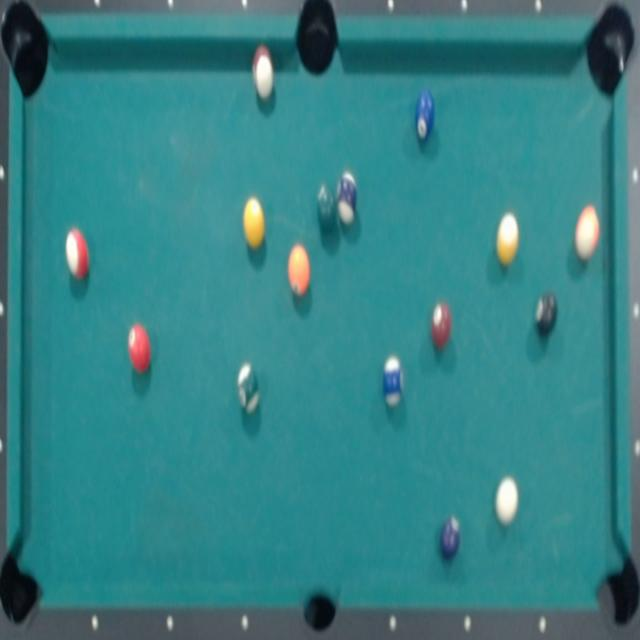black_8ball: (535, 293, 558, 333)
blue_solid: (414, 88, 435, 141)
blue_stripe: (382, 357, 403, 407)
cue_ball: (495, 478, 519, 525)
green_solid: (316, 182, 337, 232)
green_stripe: (237, 361, 260, 416)
maroon_solid: (432, 302, 452, 348)
maroon_stripe: (251, 46, 276, 99)
orange_solid: (287, 243, 311, 296)
orange_stripe: (574, 205, 600, 261)
playr: (440, 515, 461, 558)
purple_solid: (337, 170, 359, 226)
purple_stripe: (127, 323, 153, 375)
red_solid: (64, 227, 92, 282)
red_stripe: (243, 197, 266, 250)
yellow_solid: (496, 213, 519, 267)
